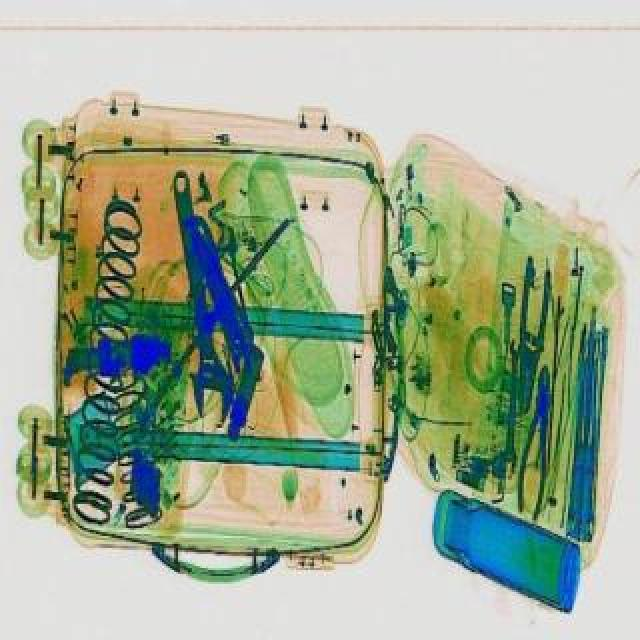scissors: (160, 164, 240, 422), (504, 336, 528, 460)
wrench: (512, 254, 556, 412), (516, 360, 560, 516)
